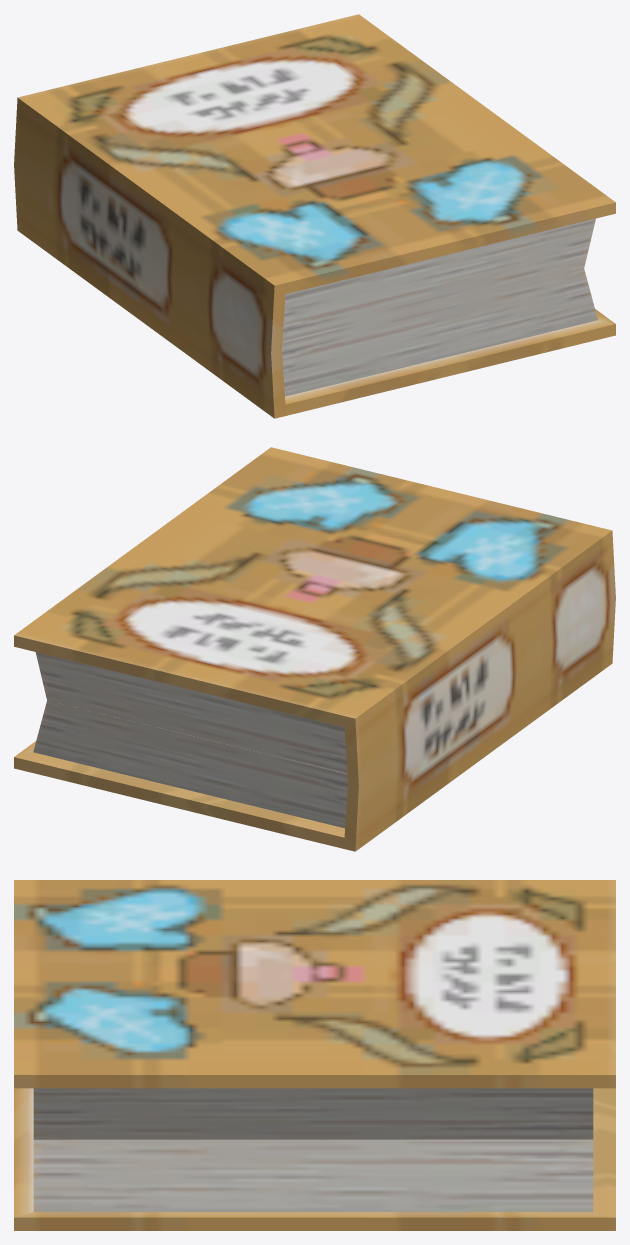
Rendered from libroReposteria2.fbx.
3 views of the same model, one above another, from view 1: azimuth 30°, elevation 25°; view 2: azimuth 150°, elevation 25°; view 3: azimuth 270°, elevation 25° (orthographic). The views are drawn at different scales.
Visible parts, largest first — view 1: s4studio_mesh_0; view 2: s4studio_mesh_0; view 3: s4studio_mesh_0.
Part boxes in pixels (<box>): s4studio_mesh_0: <box>14,14,615,418</box>; s4studio_mesh_0: <box>14,447,615,851</box>; s4studio_mesh_0: <box>14,880,615,1230</box>.
Size of the model in its own units: 16.25 by 5.99 by 20.98.
Materials: 1 (1 with a texture image).
